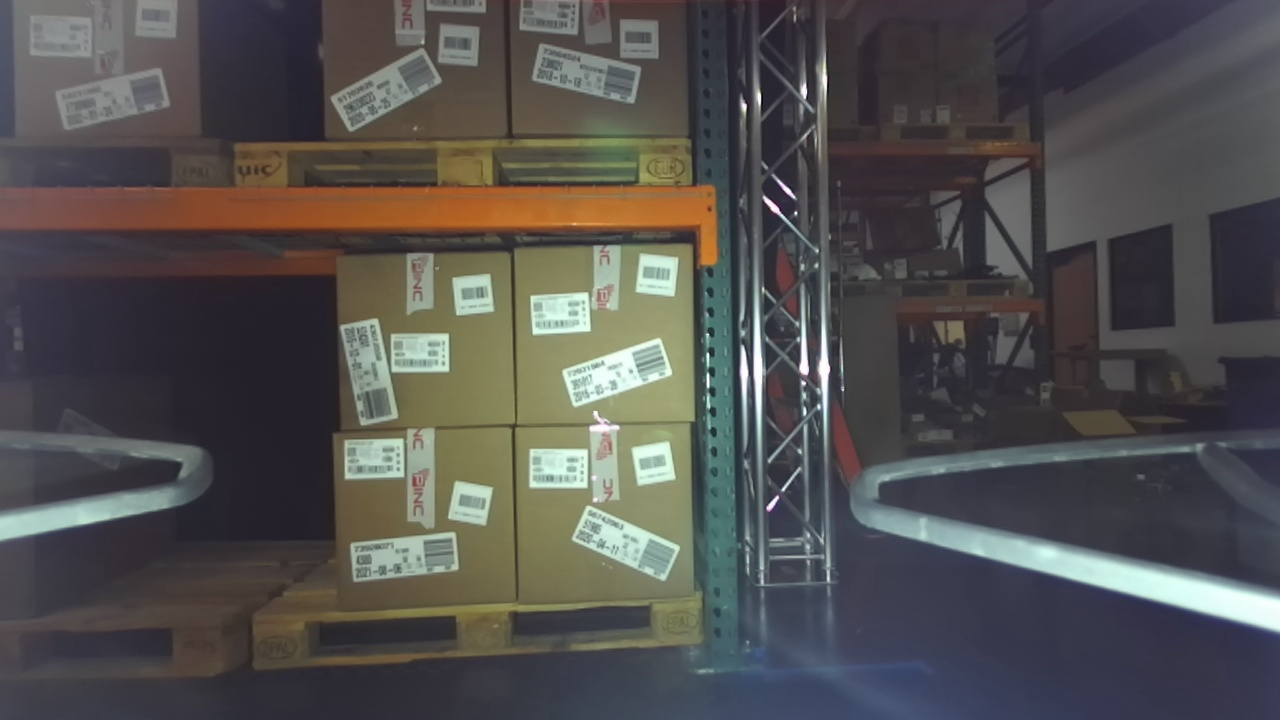box: (300, 225, 545, 457), (476, 220, 714, 447), (308, 406, 545, 631), (498, 402, 710, 626), (1, 1, 234, 163), (298, 1, 527, 161), (488, 1, 714, 162)
